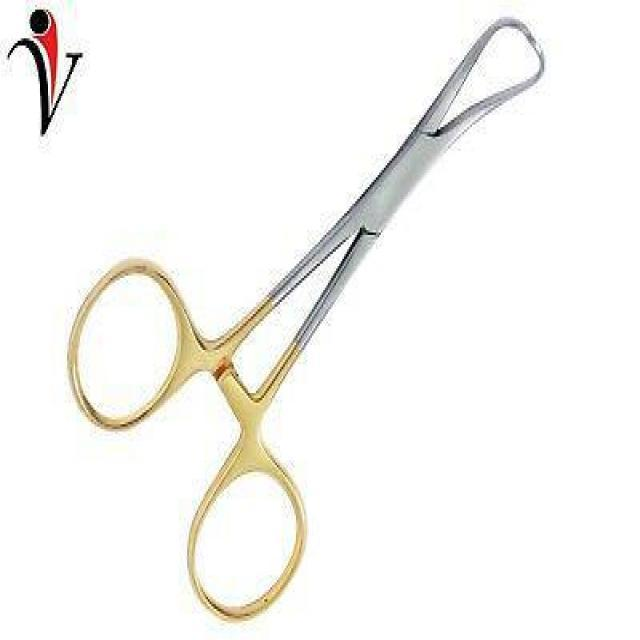Towel_clip: (62, 14, 548, 616)
